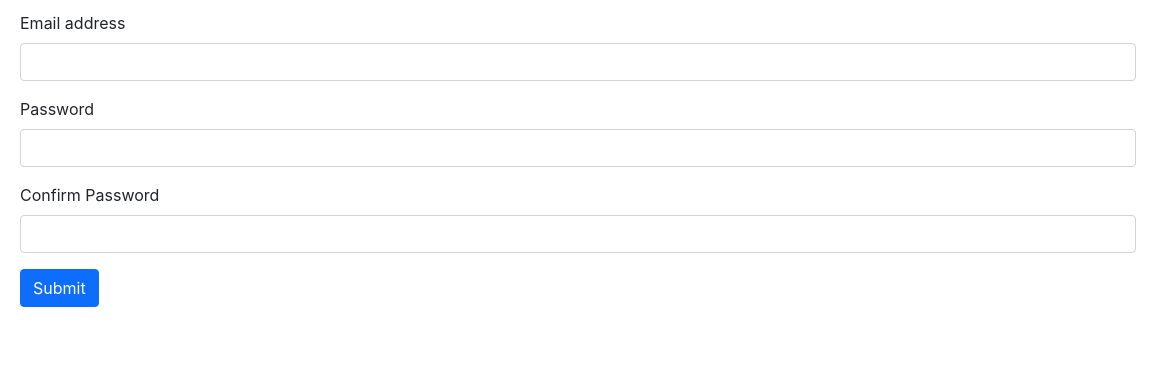
Scenario: App › Error Handling › should show password error message if password length is under 5 characters
Type "selena@gmail.com" into the field labelled "Email address". click: (578,62)
box: top-left (20, 43), bottom-right (1136, 81)
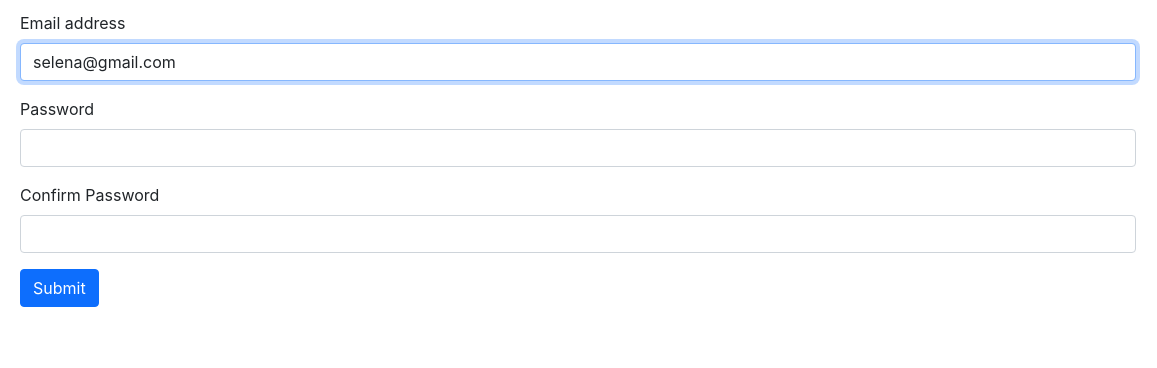
Expected: the text "the password you entered should contain 5 or more characters" is not shown
Type "pass" into the password field labelled "Password". click: (578,148)
box: top-left (20, 129), bottom-right (1136, 167)
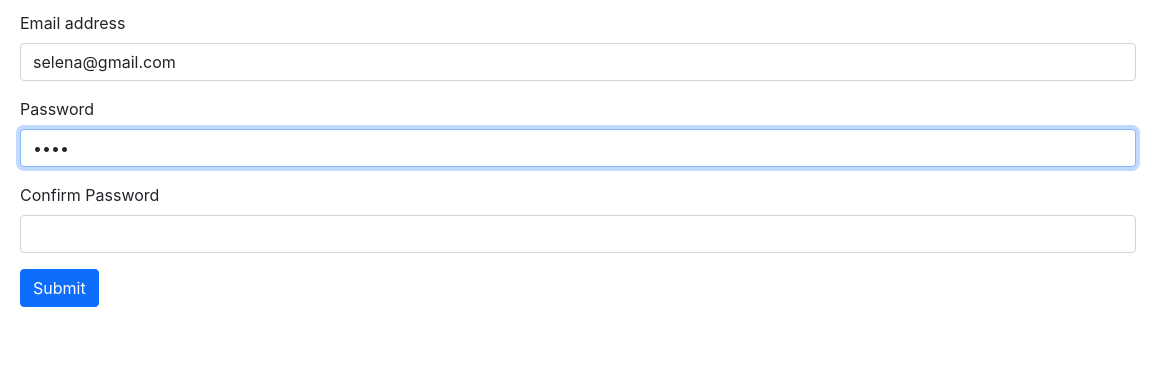
Click the button "Submit". click: (59,288)
box: top-left (20, 269), bottom-right (99, 307)
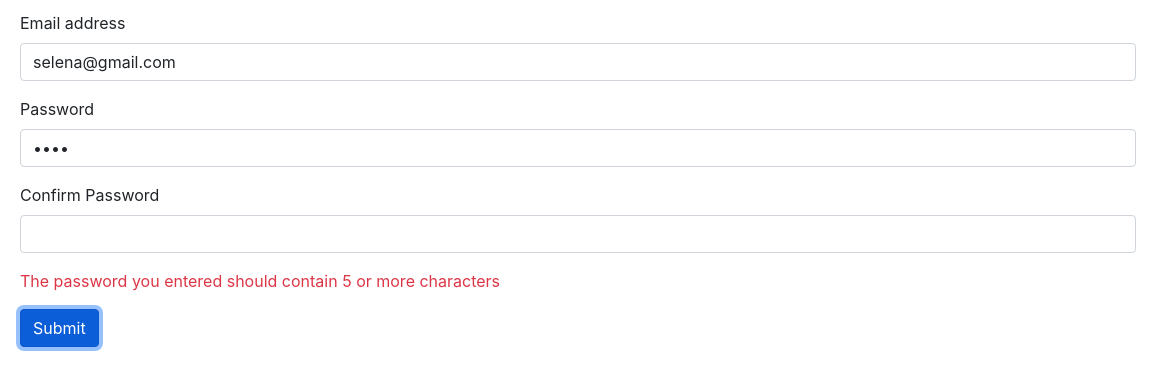
Result: the text "The password you entered should contain 5 or more characters" is shown at top-left (20, 271), bottom-right (500, 291)
